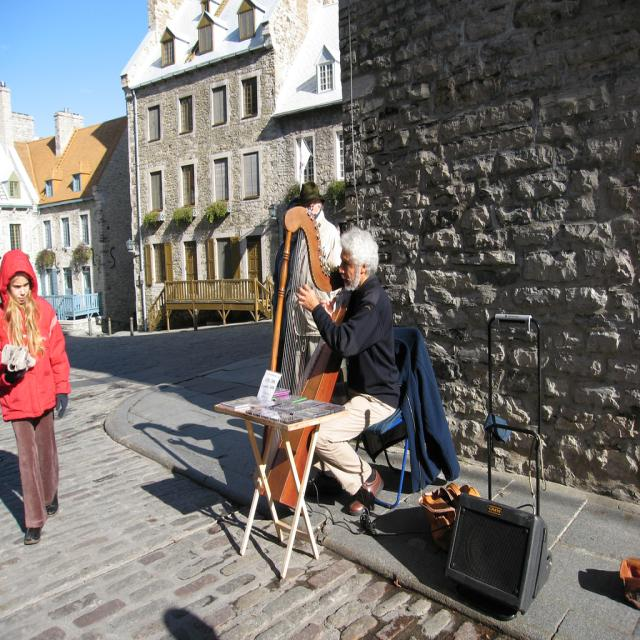harp: (260, 207, 354, 508)
